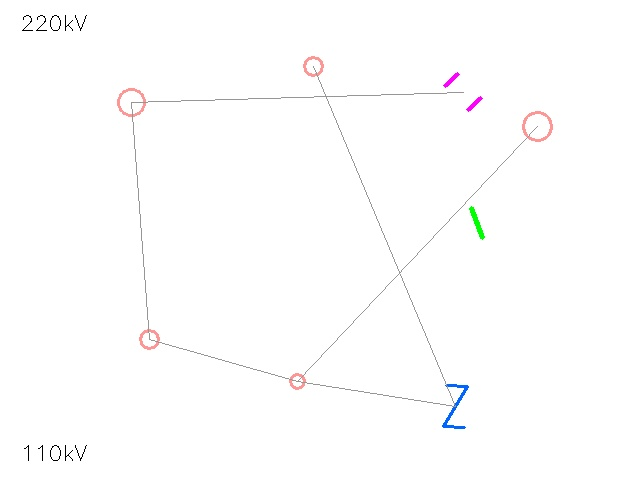busbar: (458, 204, 496, 242)
capacitor: (435, 64, 491, 120)
circuit_breaker: (432, 383, 478, 429)
current_transformer: (509, 98, 565, 154), (104, 75, 158, 129), (282, 366, 312, 396)
surge_arrester: (294, 47, 332, 85)
voltage_transformer: (131, 321, 167, 357)
